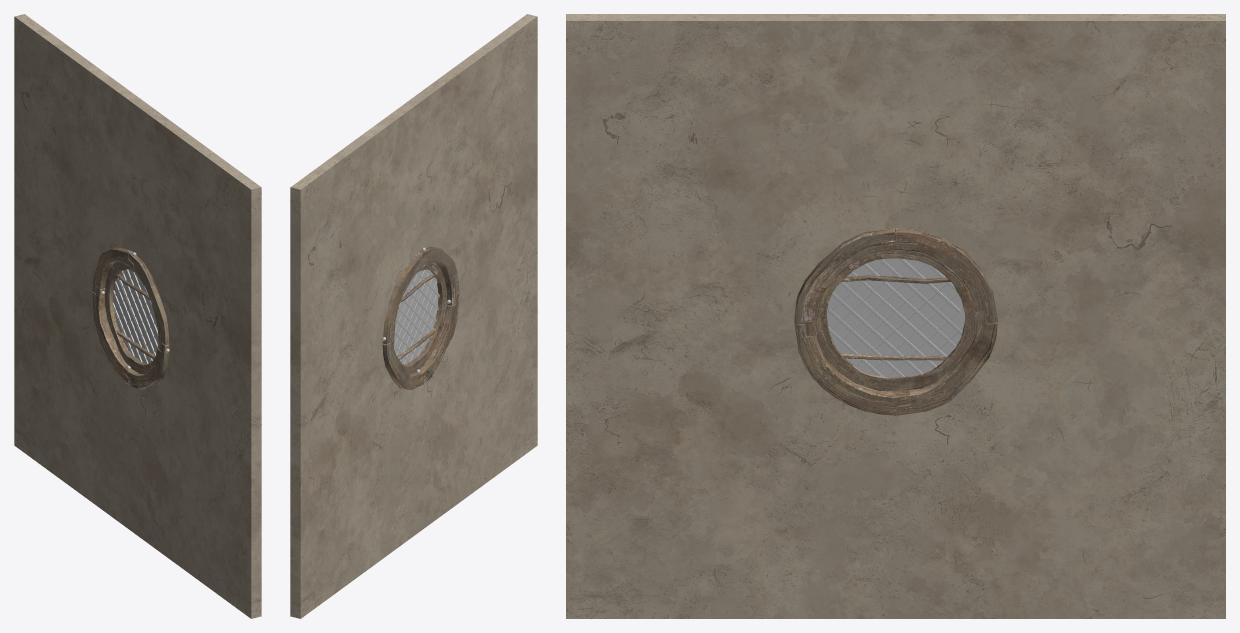
Rendered from SM_Wall_Window_03.fbx.
3 views of the same model, side by side, from view 1: azimuth 30°, elevation 25°; view 2: azimuth 150°, elevation 25°; view 3: azimuth 270°, elevation 25° (orthographic). The views are drawn at different scales.
Visible parts, largest first — view 1: SM_Wall_Window_03_LOD0; view 2: SM_Wall_Window_03_LOD0; view 3: SM_Wall_Window_03_LOD0.
Part boxes in pixels (x1,y1,x2,y2): SM_Wall_Window_03_LOD0: (14, 14, 261, 618); SM_Wall_Window_03_LOD0: (290, 14, 537, 618); SM_Wall_Window_03_LOD0: (566, 14, 1225, 618).
Bounding box in the file's own units: 22.69 × 400 × 400.
